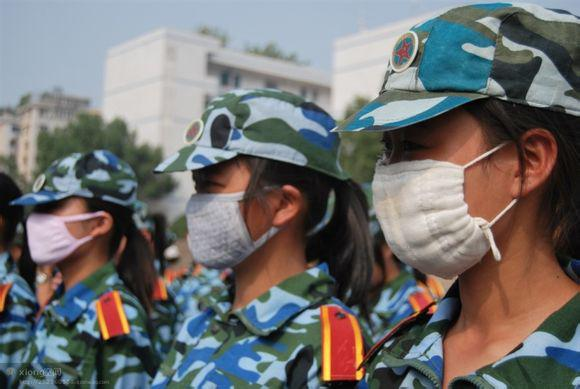OK: (377, 127, 528, 276), (186, 170, 288, 271), (23, 176, 110, 263)
